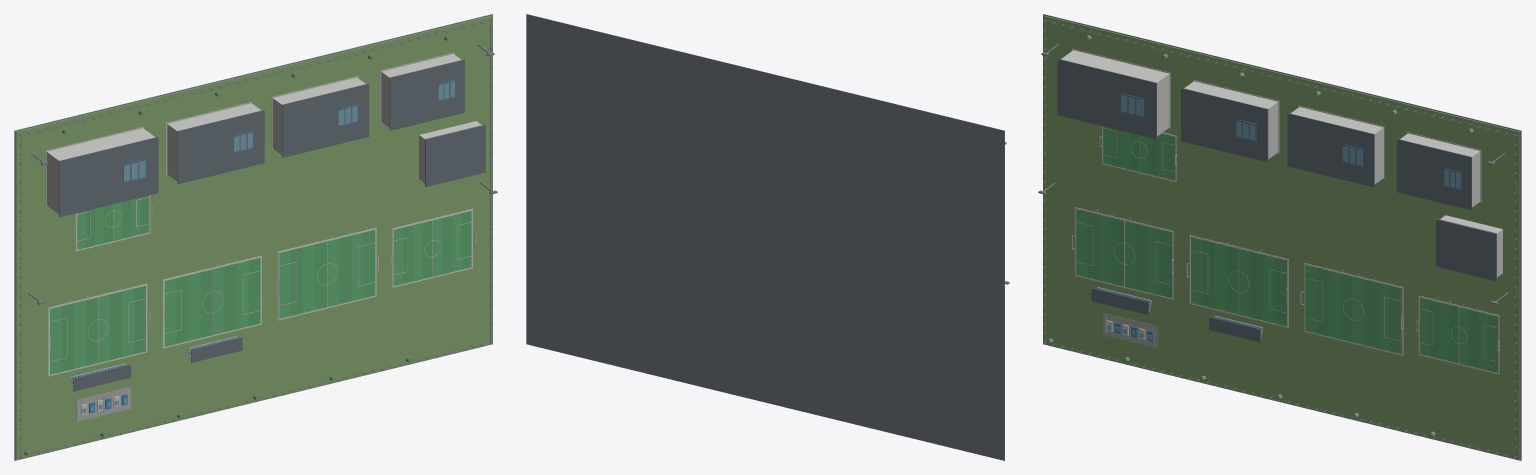
File: youth_academy_level_5.glb
3 views of the same model, side by side, from view 1: azimuth 30°, elevation 25°; view 2: azimuth 150°, elevation 25°; view 3: azimuth 330°, elevation 25° (orthographic).
Visible parts, largest first — view 1: grass, roof, pitch, stripe, wall, white, fence, trim, concrete, glass, path, solar; view 2: trim; view 3: grass, roof, stripe, pitch, wall, white, fence, trim, glass, concrete, path, solar.
Part boxes in pixels (left/top/right/bottom): grass: left=15, top=15, right=492, bottom=460; roof: left=59, top=59, right=485, bottom=391; pitch: left=62, top=195, right=471, bottom=371; stripe: left=50, top=198, right=461, bottom=374; wall: left=46, top=54, right=481, bottom=214; white: left=48, top=195, right=476, bottom=417; fence: left=19, top=19, right=492, bottom=458; trim: left=14, top=14, right=497, bottom=460; concrete: left=45, top=52, right=454, bottom=387; glass: left=82, top=81, right=454, bottom=413; path: left=76, top=386, right=131, bottom=421; solar: left=124, top=79, right=455, bottom=183; trim: left=526, top=14, right=1009, bottom=460; grass: left=1043, top=15, right=1520, bottom=460; roof: left=1057, top=58, right=1496, bottom=342; stripe: left=1076, top=126, right=1488, bottom=370; pitch: left=1088, top=128, right=1497, bottom=372; wall: left=1061, top=50, right=1502, bottom=277; white: left=1072, top=126, right=1499, bottom=374; fence: left=1043, top=19, right=1516, bottom=458; trim: left=1038, top=14, right=1521, bottom=460; glass: left=1107, top=95, right=1460, bottom=339; concrete: left=1072, top=48, right=1481, bottom=338; path: left=1103, top=313, right=1157, bottom=348; solar: left=1122, top=93, right=1461, bottom=190.
Size of the model in its own units: 159 by 105 by 9.14.
